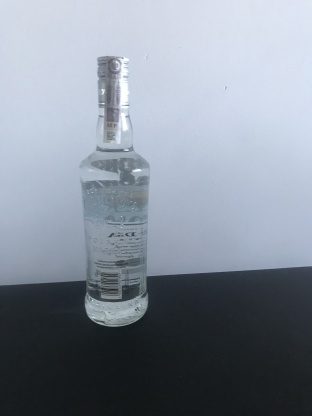nakretka: (94, 51, 132, 111)
